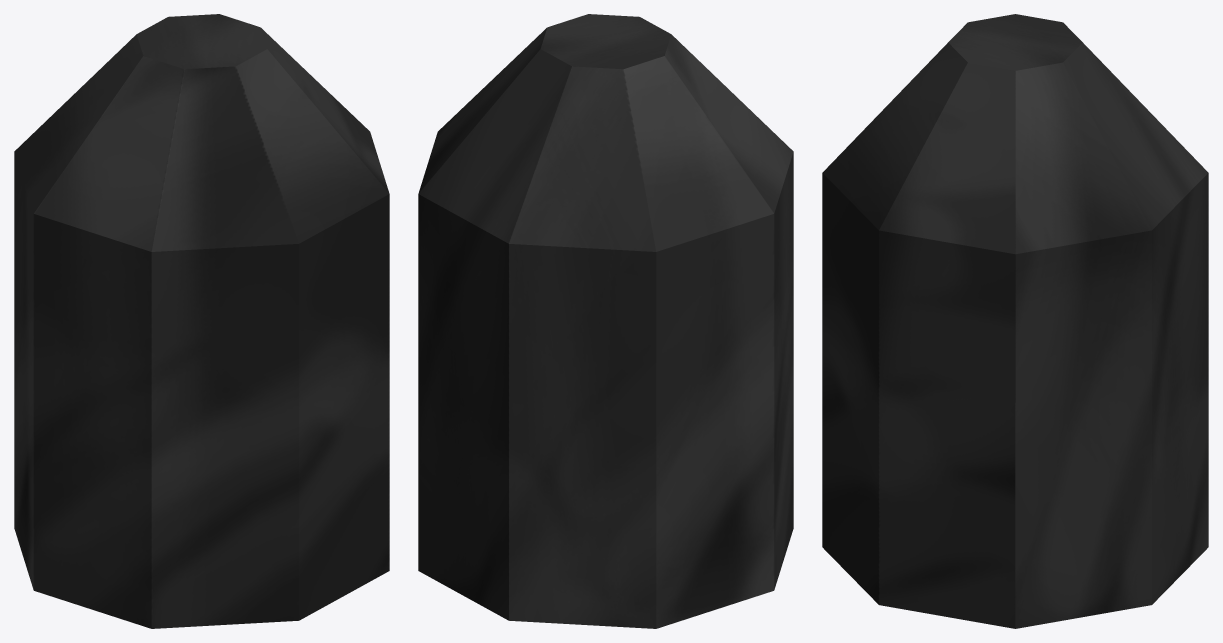
Rendered from bullet_001.fbx.
The picture shows the model from 3 angles, left to right: view 1: azimuth 30°, elevation 25°; view 2: azimuth 150°, elevation 25°; view 3: azimuth 270°, elevation 25°; orthographic projection.
Parts seen in each view (by area): view 1: Cylinder; view 2: Cylinder; view 3: Cylinder.
Part boxes in pixels (x1,y1,x2,y2): Cylinder: (14,14,389,628); Cylinder: (418,14,793,628); Cylinder: (822,14,1208,628).
Bounding box in the file's own units: 200 × 289 × 200.
